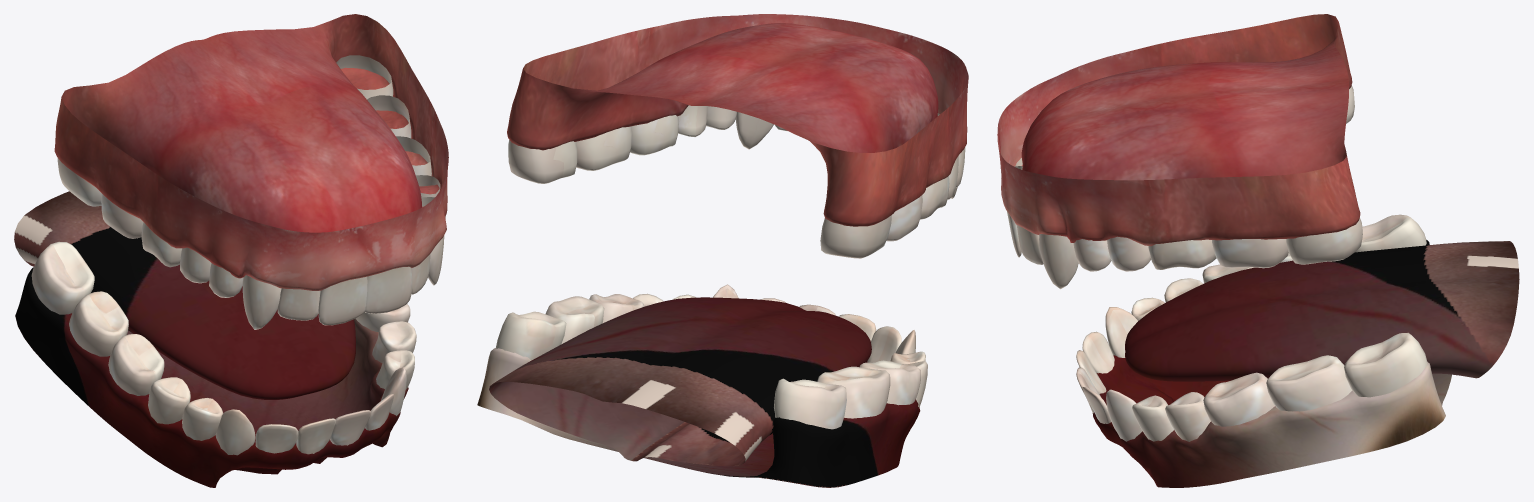
File: Teeth.glb
3 renders of one model, left to right at view 1: azimuth 30°, elevation 25°; view 2: azimuth 150°, elevation 25°; view 3: azimuth 270°, elevation 25°, orthographic. The views are drawn at different scales.
Parts seen in each view (by area): view 1: Tongue.001; view 2: Tongue.001; view 3: Tongue.001.
Boxes of the visible parts, left/top/right/bottom form: Tongue.001: left=14, top=14, right=448, bottom=487; Tongue.001: left=477, top=14, right=968, bottom=487; Tongue.001: left=997, top=14, right=1519, bottom=487.
Size of the model in its own units: 0.0881 by 0.0929 by 0.1183.
1 material, 1 textured.
